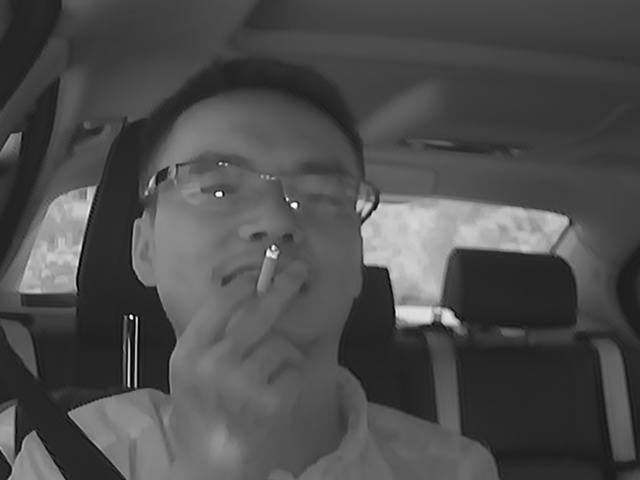hand: (155, 266, 311, 435)
